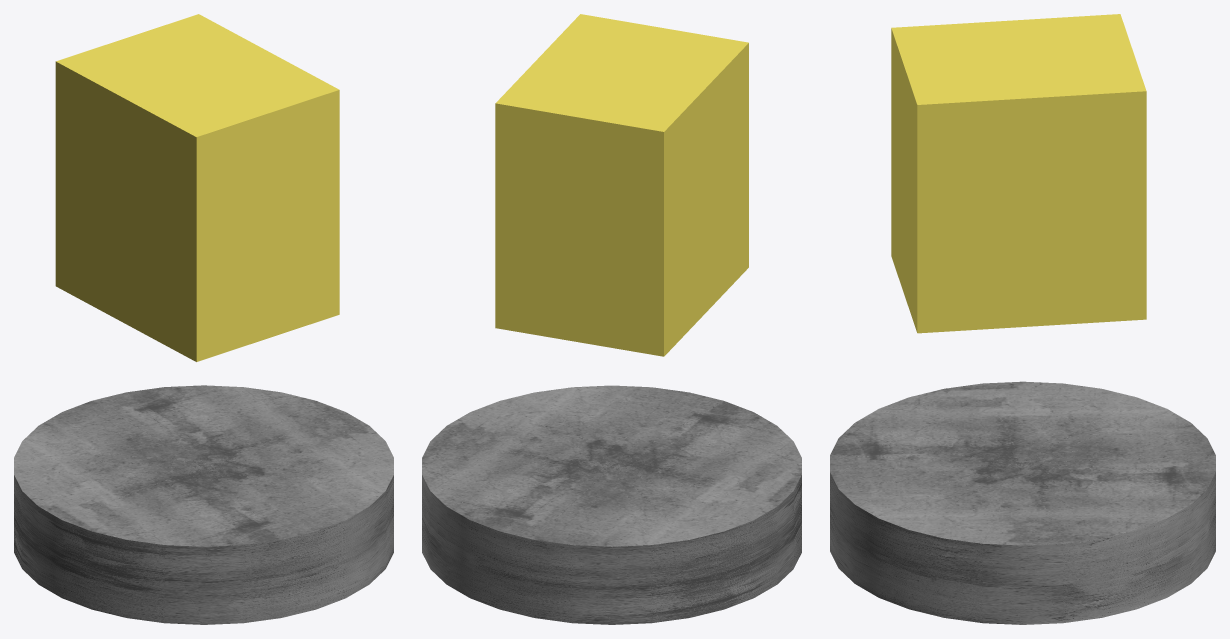
File: cubYellow.glb
3 views of the same model, side by side, from view 1: azimuth 30°, elevation 25°; view 2: azimuth 150°, elevation 25°; view 3: azimuth 270°, elevation 25° (orthographic).
Parts seen in each view (by area): view 1: 013_Box_10, 014_Cylinder_-_baked_6; view 2: 014_Cylinder_-_baked_6, 013_Box_10; view 3: 014_Cylinder_-_baked_6, 013_Box_10.
Part boxes in pixels (x1=…): 013_Box_10: x1=55, y1=14, x2=339, y2=361; 014_Cylinder_-_baked_6: x1=14, y1=385, x2=393, y2=624; 014_Cylinder_-_baked_6: x1=422, y1=385, x2=801, y2=624; 013_Box_10: x1=495, y1=14, x2=748, y2=356; 014_Cylinder_-_baked_6: x1=830, y1=381, x2=1215, y2=624; 013_Box_10: x1=891, y1=14, x2=1146, y2=333.
Size of the model in its own units: 17.34 by 23.65 by 17.25.
Materials: 2 (1 with a texture image).
